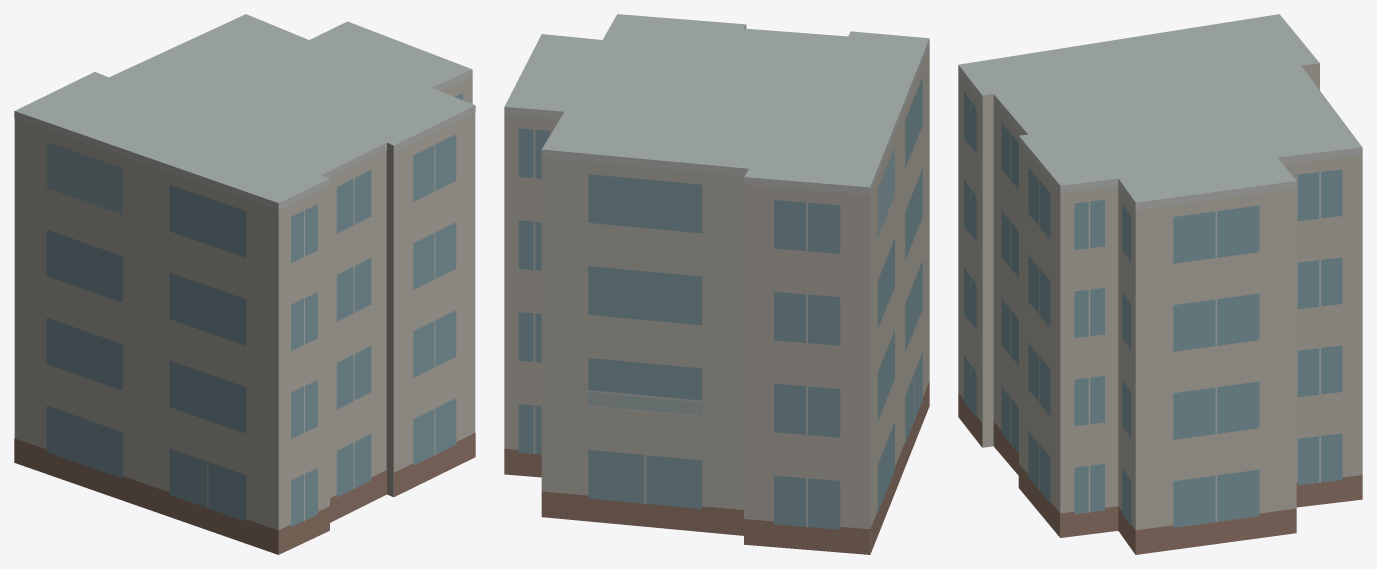
The model's file is survey-upis-32806537.glb.
3 renders of one model, left to right at view 1: azimuth 30°, elevation 25°; view 2: azimuth 150°, elevation 25°; view 3: azimuth 270°, elevation 25°, orthographic. The views are drawn at different scales.
Parts seen in each view (by area): view 1: survey-upis-32806537.tmp; view 2: survey-upis-32806537.tmp; view 3: survey-upis-32806537.tmp.
Boxes of the visible parts, x1=… form: survey-upis-32806537.tmp: x1=14, y1=14, x2=475, y2=554; survey-upis-32806537.tmp: x1=504, y1=14, x2=929, y2=554; survey-upis-32806537.tmp: x1=958, y1=14, x2=1362, y2=554.
Size of the model in its own units: 13.45 by 11.7 by 12.18.
